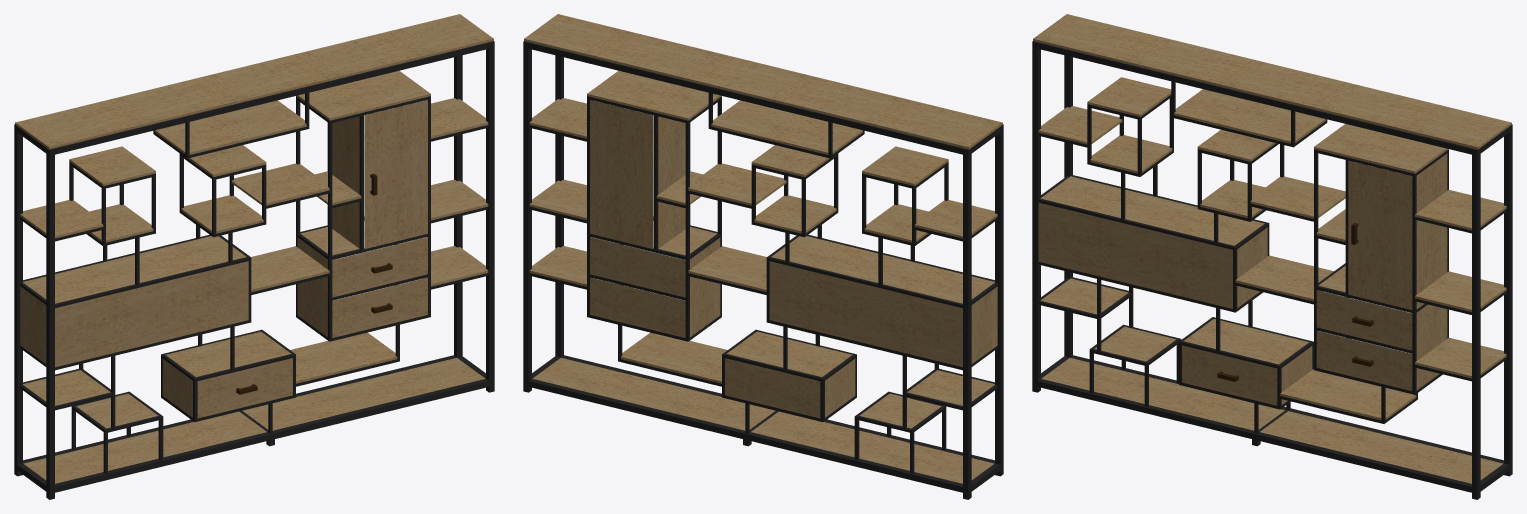
The model's file is estante_01.glb.
The picture shows the model from 3 angles, left to right: view 1: azimuth 30°, elevation 25°; view 2: azimuth 150°, elevation 25°; view 3: azimuth 330°, elevation 25°; orthographic projection.
Parts seen in each view (by area): view 1: Object_2, Object_3, Object_4; view 2: Object_2, Object_3; view 3: Object_2, Object_3, Object_4.
Part boxes in pixels (bbox=[...]): Object_2: bbox=[15, 14, 493, 483]; Object_3: bbox=[14, 41, 494, 499]; Object_4: bbox=[236, 173, 392, 394]; Object_2: bbox=[524, 14, 1002, 483]; Object_3: bbox=[523, 41, 1003, 499]; Object_2: bbox=[1033, 14, 1511, 483]; Object_3: bbox=[1032, 41, 1512, 499]; Object_4: bbox=[1217, 223, 1373, 381].
Size of the model in its own units: 4 by 3.02 by 0.5878.
3 materials, 1 textured.
